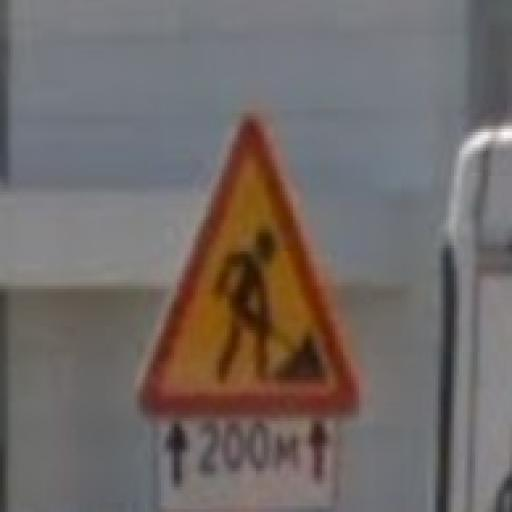traffic_sign: (138, 114, 363, 419)
